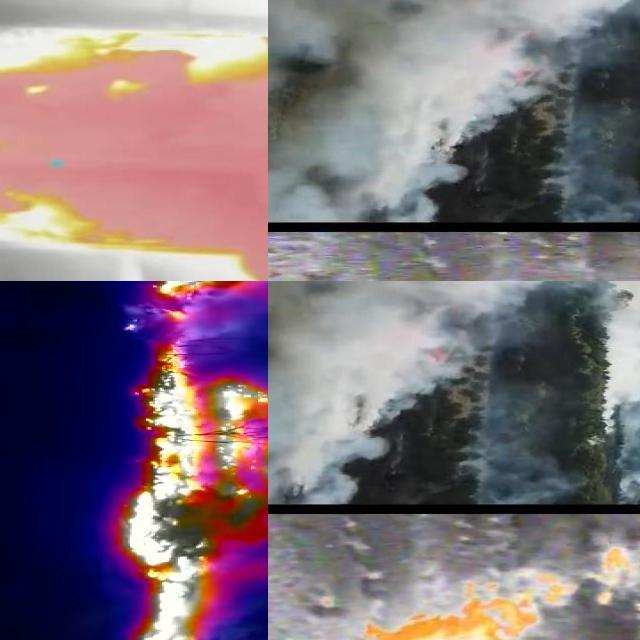fire: (1, 11, 269, 282), (119, 342, 269, 640), (362, 584, 540, 640), (546, 548, 638, 612), (140, 282, 269, 327)
